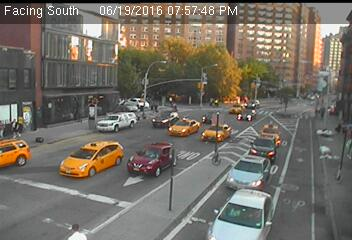neg: (124, 80, 135, 95), (67, 102, 77, 117), (283, 85, 292, 98), (183, 85, 191, 95), (263, 85, 268, 93)
pos: (8, 117, 23, 137), (69, 221, 83, 239), (319, 102, 330, 118)
